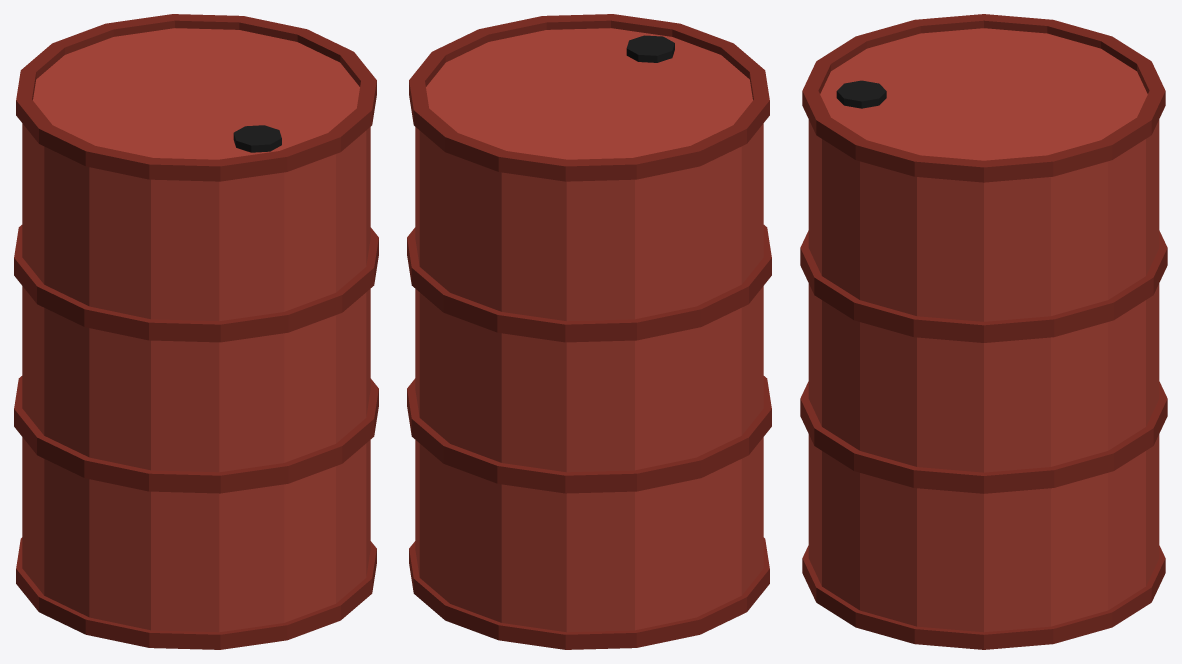
File: Barrel_02.fbx
3 views of the same model, side by side, from view 1: azimuth 30°, elevation 25°; view 2: azimuth 150°, elevation 25°; view 3: azimuth 270°, elevation 25° (orthographic).
Visible parts, largest first — view 1: Barrel_02; view 2: Barrel_02; view 3: Barrel_02.
Part boxes in pixels (x1,y1,x2,y2): Barrel_02: (14,14,378,649); Barrel_02: (407,14,771,649); Barrel_02: (800,14,1167,649).
Bounding box in the file's own units: 60.7 × 88 × 60.7.
